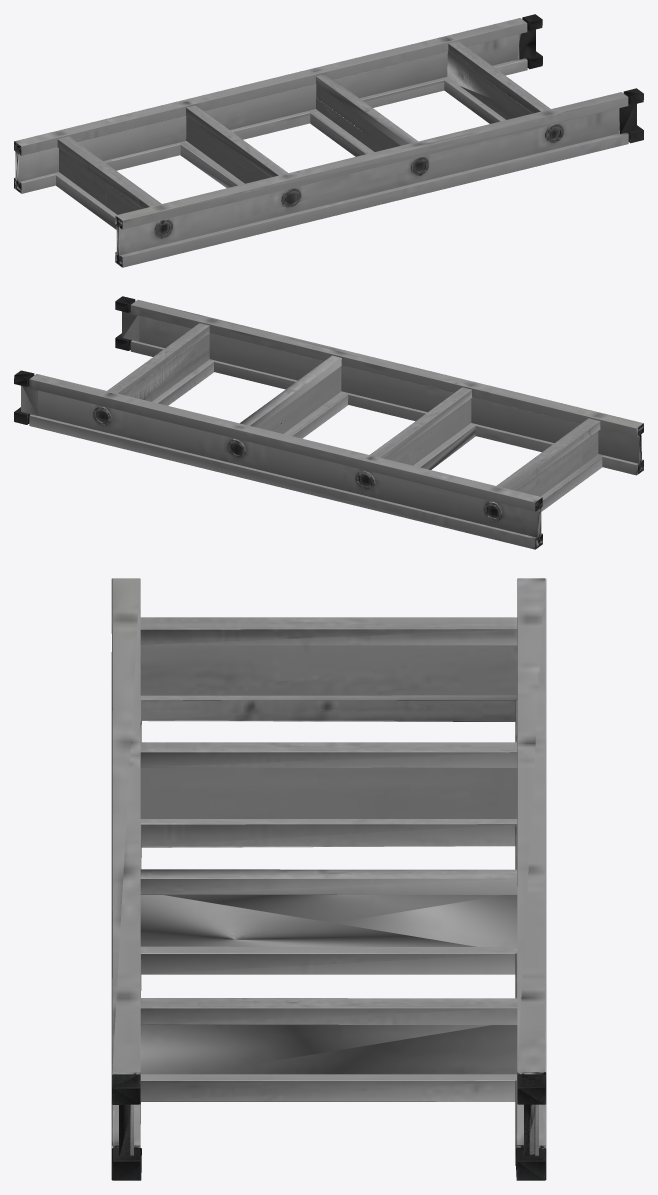
The model's file is ladder.glb.
The picture shows the model from 3 angles, top to bottom: view 1: azimuth 30°, elevation 25°; view 2: azimuth 150°, elevation 25°; view 3: azimuth 270°, elevation 25°; orthographic projection. The views are drawn at different scales.
Parts seen in each view (by area): view 1: Prop_ladder; view 2: Prop_ladder; view 3: Prop_ladder.
Boxes of the visible parts, box(x1,y1,x2,y2) form: Prop_ladder: box(14, 14, 643, 267); Prop_ladder: box(14, 296, 643, 549); Prop_ladder: box(111, 578, 546, 1180).
Bounding box in the file's own units: 1.25 × 0.1091 × 0.45.
Materials: 1 (1 with a texture image).
